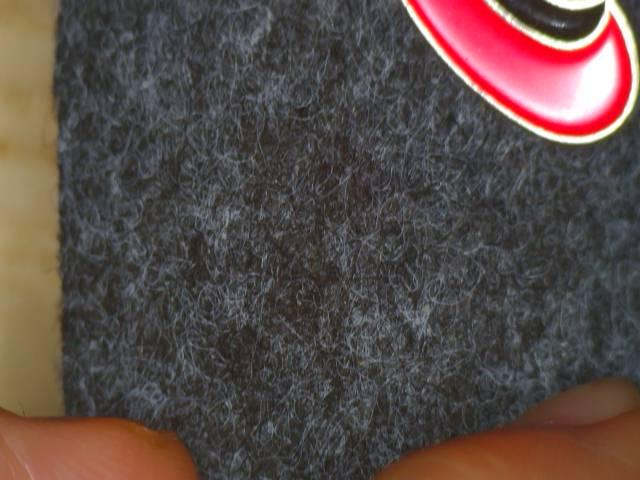Red-Hat: (381, 0, 640, 184)
